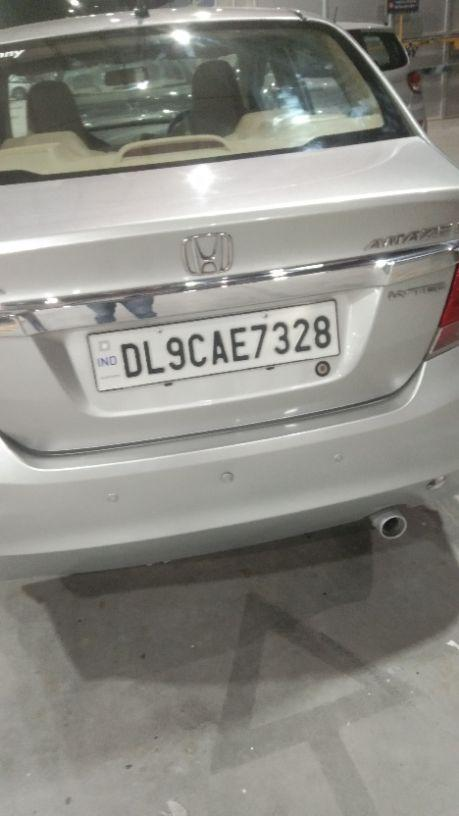license_plate: (85, 297, 341, 392)
